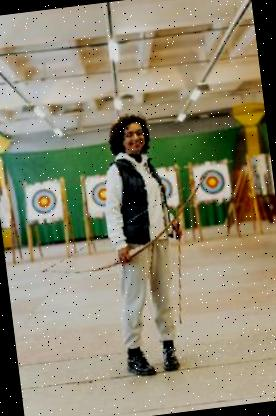person: (86, 101, 205, 390)
